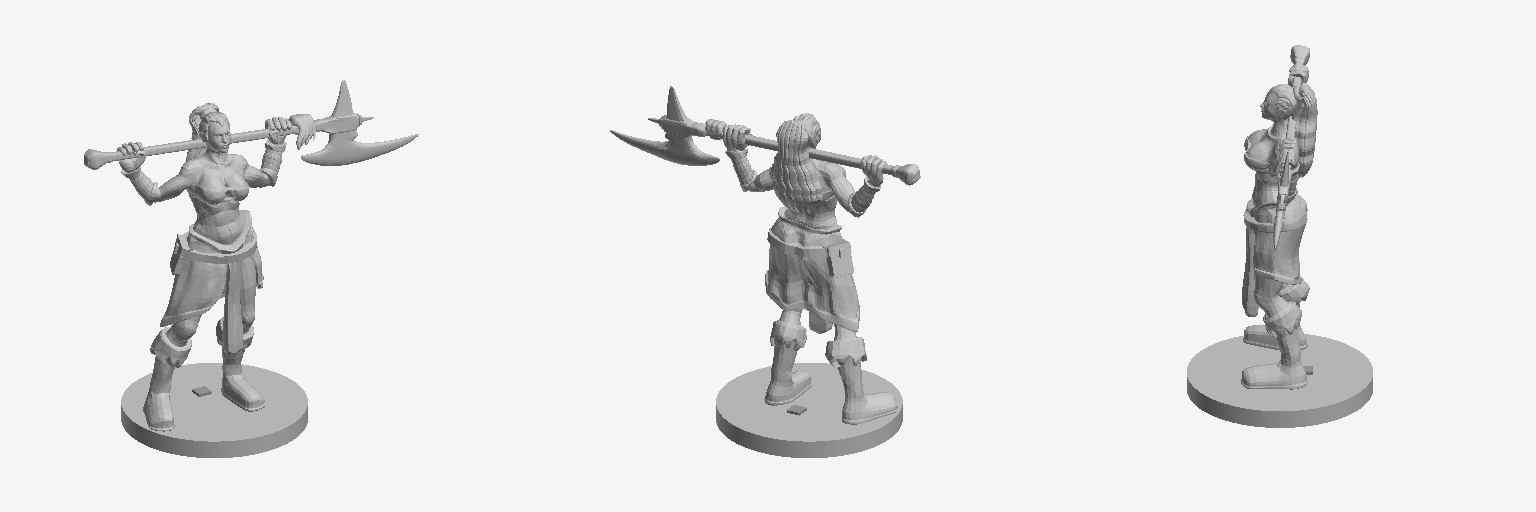
The model's file is female-Barbarian.obj.
3 views of the same model, side by side, from view 1: azimuth 30°, elevation 25°; view 2: azimuth 150°, elevation 25°; view 3: azimuth 270°, elevation 25° (orthographic).
Visible parts, largest first — view 1: Object.1; view 2: Object.1; view 3: Object.1.
Boxes of the visible parts, x1,y1,x2,y2 form: Object.1: [84, 80, 418, 457]; Object.1: [610, 86, 920, 457]; Object.1: [1187, 45, 1372, 427].
Bounding box in the file's own units: 97 × 88.16 × 48.83.